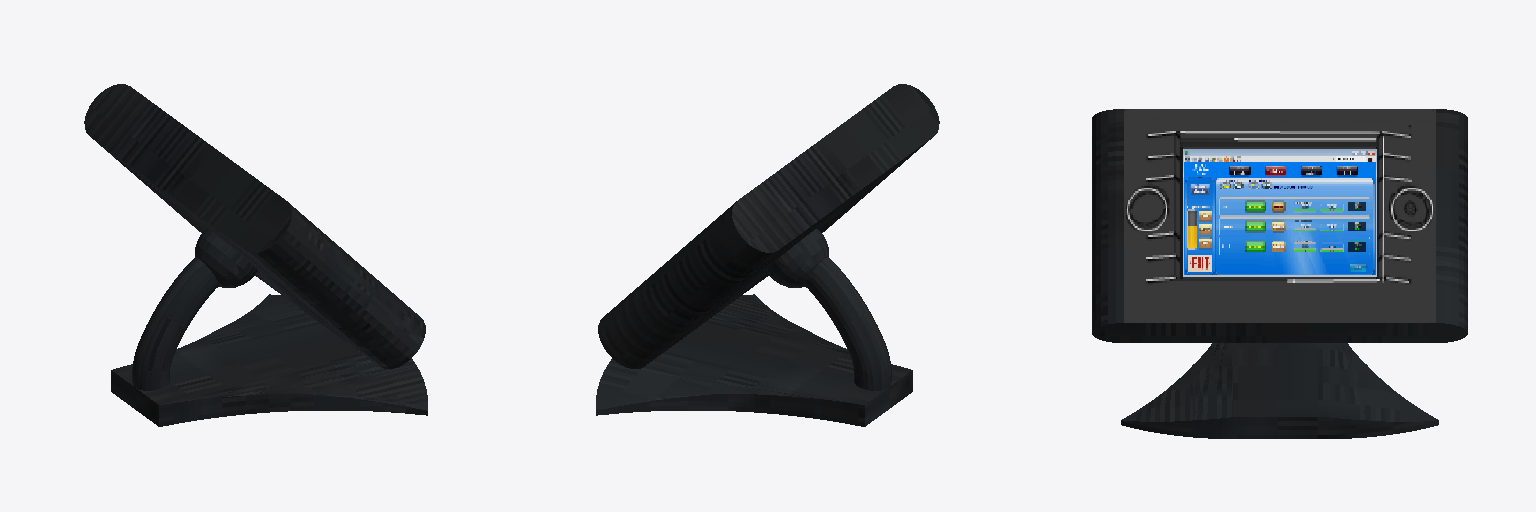
3 renders of one model, left to right at view 1: azimuth 30°, elevation 25°; view 2: azimuth 150°, elevation 25°; view 3: azimuth 270°, elevation 25°, orthographic.
Parts seen in each view (by area): view 1: mesh1-geometry-0, mesh3-geometry-0, mesh5-geometry-0; view 2: mesh1-geometry-0, mesh3-geometry-0, mesh5-geometry-0; view 3: mesh1-geometry-1, mesh3-geometry-0, mesh1-geometry-0.
Part boxes in pixels (bbox=[...]): mesh1-geometry-0: bbox=[84, 84, 425, 368]; mesh3-geometry-0: bbox=[111, 294, 427, 426]; mesh5-geometry-0: bbox=[132, 229, 257, 390]; mesh1-geometry-0: bbox=[598, 84, 939, 368]; mesh3-geometry-0: bbox=[596, 294, 912, 426]; mesh5-geometry-0: bbox=[766, 229, 891, 390]; mesh1-geometry-1: bbox=[1124, 109, 1435, 322]; mesh3-geometry-0: bbox=[1121, 343, 1438, 438]; mesh1-geometry-0: bbox=[1092, 109, 1467, 342].
Size of the model in its own units: 0.5155 by 0.5043 by 0.6928.
Materials: 2 (2 with a texture image).